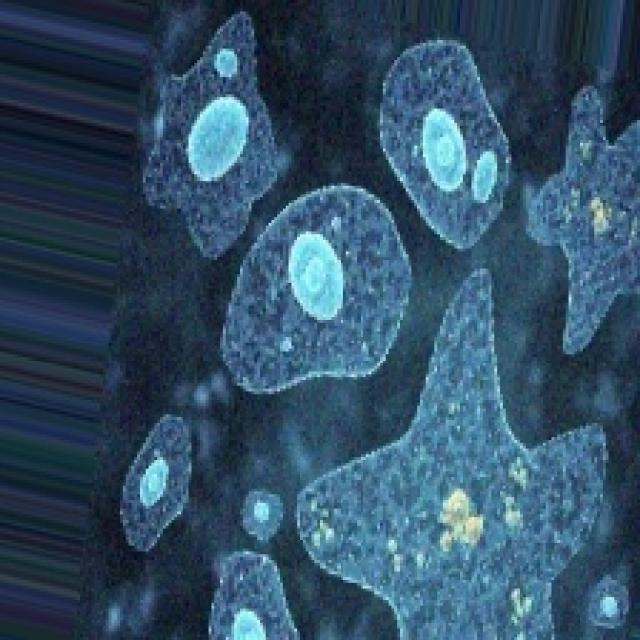Amoeba: (63, 0, 637, 637)
